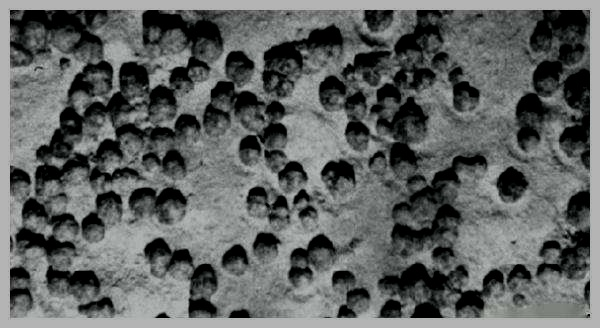halobolite: (142, 5, 191, 58), (260, 42, 302, 98), (298, 22, 342, 68), (189, 17, 224, 68), (346, 48, 391, 86), (19, 14, 55, 57), (141, 234, 173, 278), (394, 102, 429, 142), (156, 184, 187, 229), (32, 164, 70, 200), (115, 124, 148, 165), (401, 260, 434, 301), (563, 66, 591, 113), (235, 88, 264, 133), (117, 65, 153, 101), (81, 103, 113, 143), (390, 139, 421, 180), (78, 59, 112, 96), (126, 185, 159, 223), (191, 261, 223, 300), (145, 85, 176, 125), (219, 241, 250, 281), (497, 167, 530, 204), (530, 59, 561, 97), (411, 185, 439, 227), (223, 49, 253, 88), (395, 34, 425, 73), (58, 108, 87, 148), (323, 161, 356, 196), (513, 90, 545, 126), (558, 123, 590, 159), (106, 91, 136, 129), (200, 105, 233, 139), (306, 235, 339, 269), (555, 10, 587, 45), (96, 188, 123, 229), (453, 154, 489, 184), (250, 233, 282, 266), (14, 230, 48, 261), (52, 18, 82, 53), (93, 140, 122, 176), (8, 166, 35, 204), (430, 171, 462, 203), (4, 40, 38, 70), (72, 268, 102, 302), (43, 131, 75, 162), (279, 162, 309, 195), (171, 112, 200, 146), (451, 284, 480, 318), (433, 205, 463, 237), (62, 153, 90, 187), (21, 200, 49, 234), (318, 76, 346, 110), (343, 92, 371, 125), (82, 295, 120, 319), (414, 9, 452, 33), (529, 18, 554, 54), (78, 34, 107, 65), (79, 213, 108, 244), (7, 290, 40, 317), (244, 183, 268, 220), (566, 190, 590, 227), (51, 214, 80, 244), (42, 269, 74, 296), (267, 194, 291, 230), (517, 125, 544, 157), (286, 266, 319, 291), (454, 82, 479, 115), (346, 121, 370, 155), (482, 265, 506, 299), (506, 263, 535, 291), (47, 243, 79, 268), (298, 205, 326, 233), (365, 9, 394, 36), (240, 136, 265, 167), (375, 83, 406, 108), (161, 151, 187, 180), (209, 80, 235, 109), (170, 246, 193, 278), (558, 40, 585, 67), (378, 272, 404, 300), (343, 289, 373, 313), (186, 298, 220, 319), (82, 9, 113, 32), (265, 123, 291, 150), (152, 125, 174, 156), (7, 264, 32, 291), (111, 166, 141, 188), (392, 196, 414, 226), (330, 271, 358, 293), (172, 67, 193, 96), (264, 147, 287, 173), (263, 97, 285, 123), (287, 247, 313, 268), (414, 65, 435, 91), (536, 263, 560, 285), (538, 241, 563, 262), (188, 61, 212, 82), (379, 298, 403, 319), (367, 152, 388, 173), (293, 190, 311, 212), (141, 154, 160, 173), (432, 48, 450, 68), (335, 303, 357, 318)
